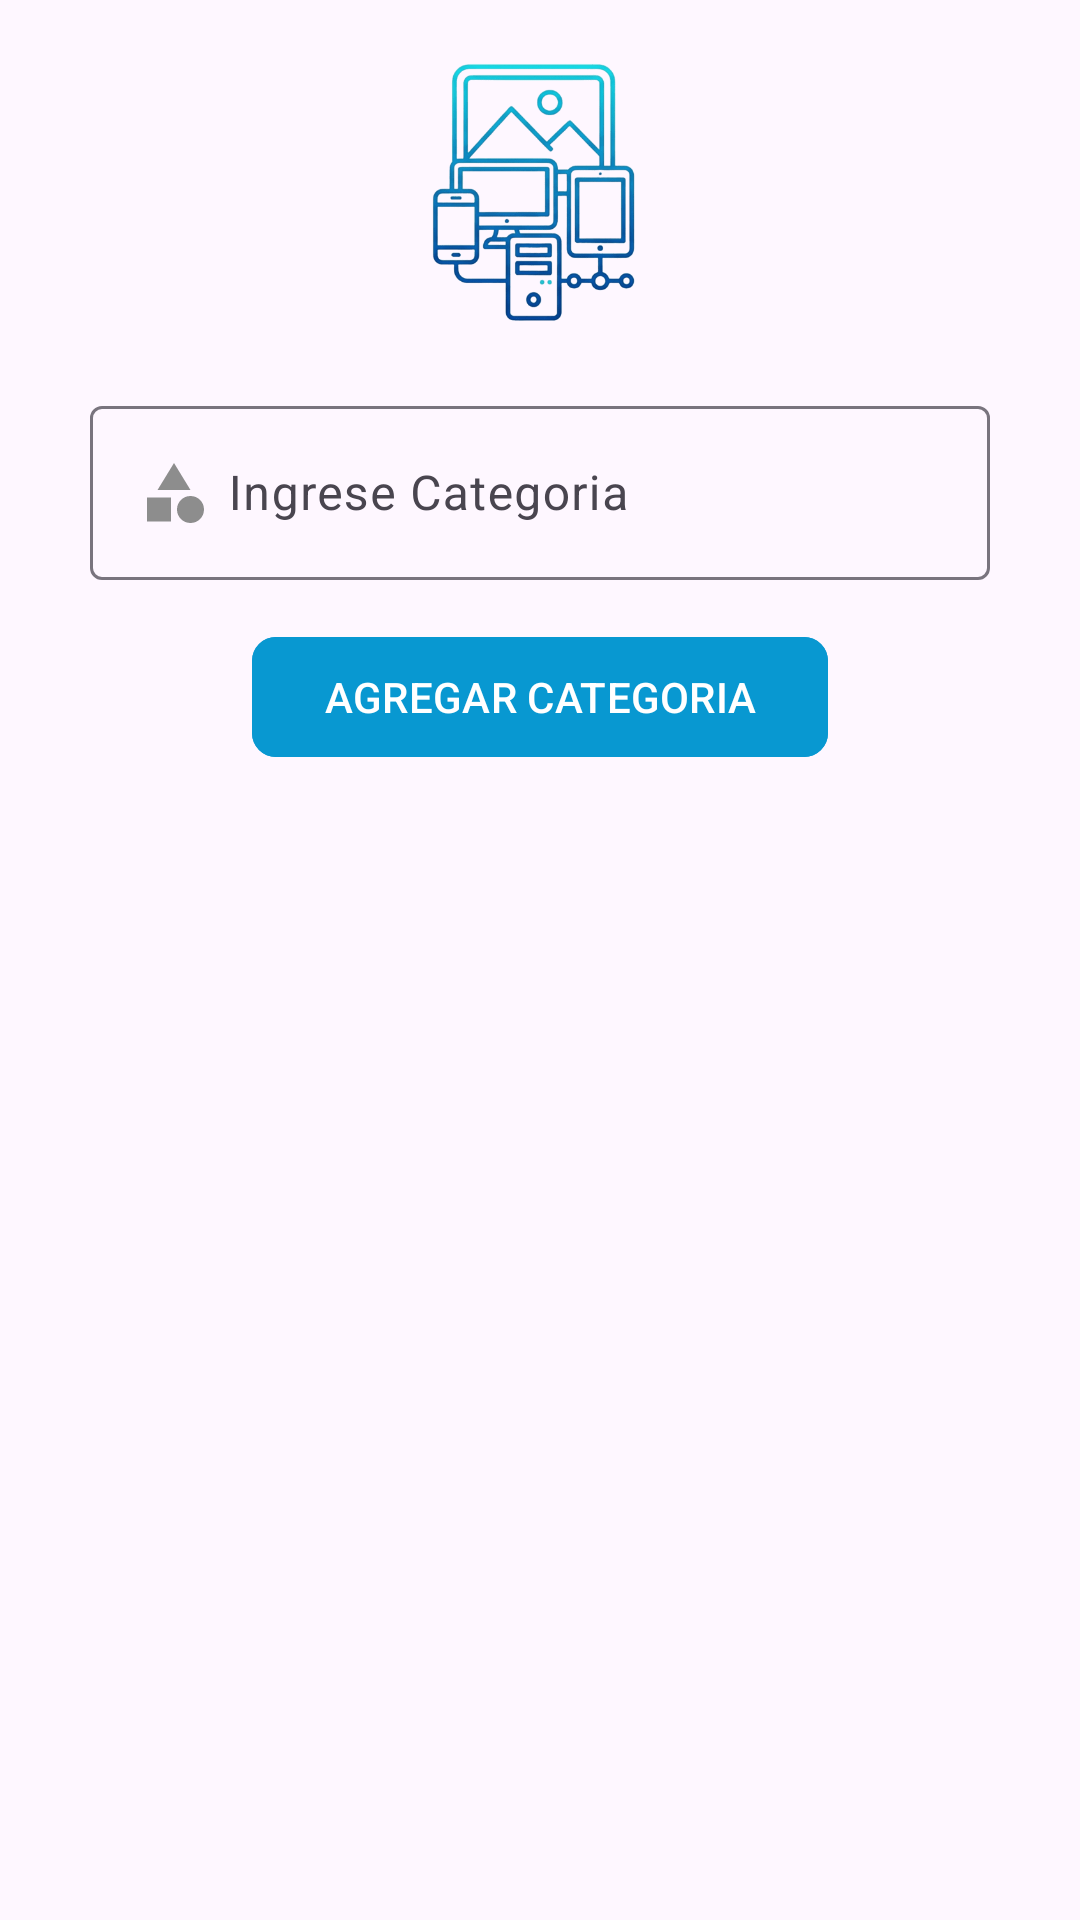

Locate icon controls on the screen. Image size 1080 × 1920, boxes as [left=x1, top=y1, right=x2, bottom=y2].
icoimagen: [left=433, top=64, right=635, bottom=321]
